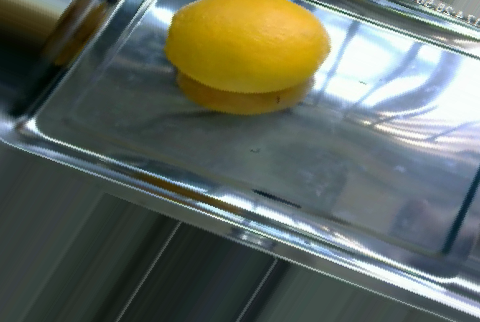Orange: (166, 1, 331, 94)
